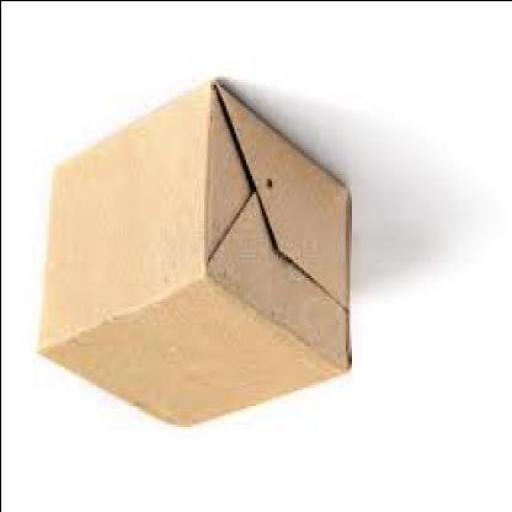cardboard: (36, 79, 350, 428)
